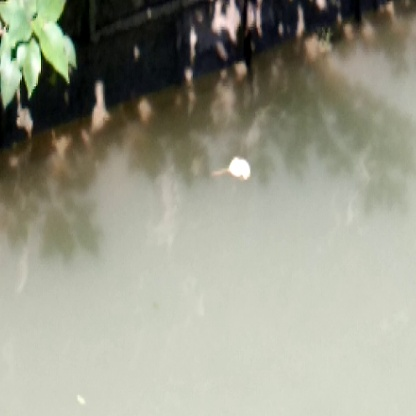leaf: (33, 23, 76, 86)
